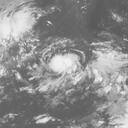cyclone: (49, 52, 82, 76)
